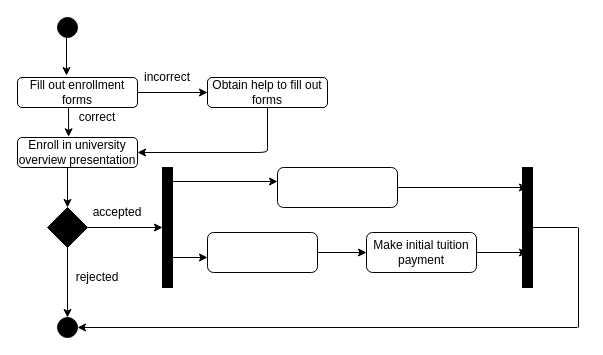
Some shapes in this 603 by 355 pixel diagram are drawn without their labels. The shapes that lost their labels are listed below. From the top down, each one's centre as x and y in pixels, then its label:
(x=337, y=187): Attend university overview presentation
(x=262, y=252): Enroll in seminars
